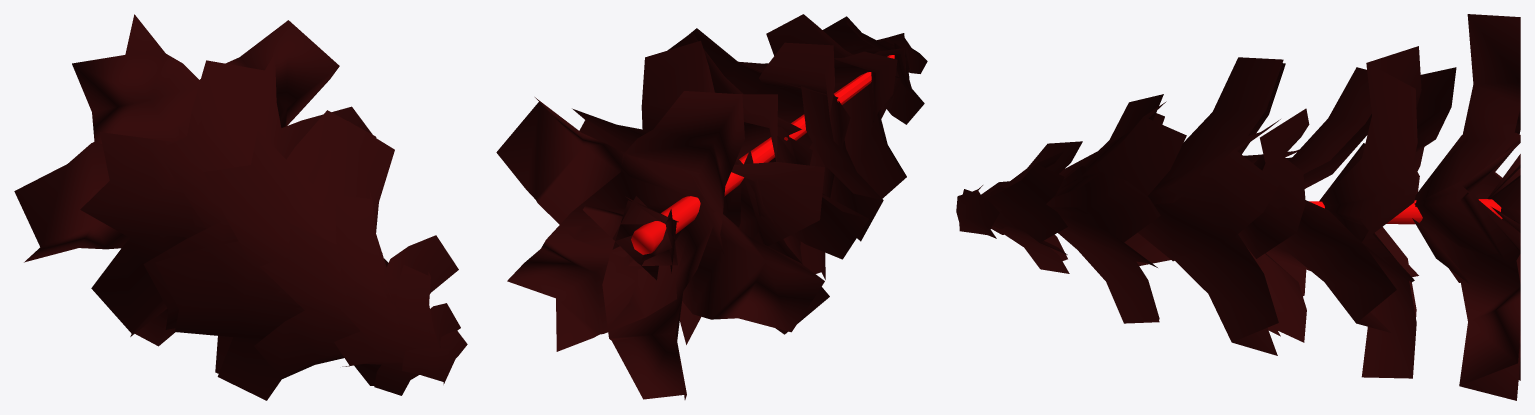
The model's file is FelledPineCrown.fbx.
3 views of the same model, side by side, from view 1: azimuth 30°, elevation 25°; view 2: azimuth 150°, elevation 25°; view 3: azimuth 270°, elevation 25° (orthographic). The views are drawn at different scales.
Parts seen in each view (by area): view 1: FelledPineCrown; view 2: FelledPineCrown; view 3: FelledPineCrown.
Boxes of the visible parts, box(x1,y1,x2,y2) form: FelledPineCrown: box(14, 14, 467, 400); FelledPineCrown: box(496, 14, 927, 399); FelledPineCrown: box(956, 14, 1520, 400).
Bounding box in the file's own units: 2.58 × 2.57 × 3.84.
